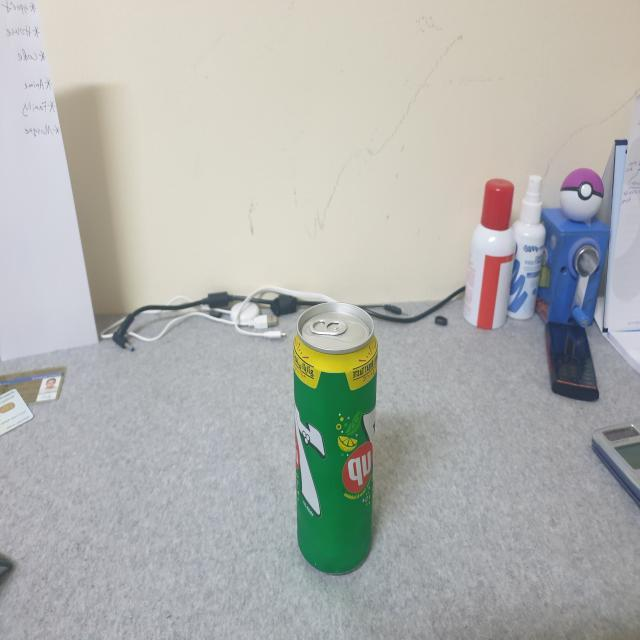can: (282, 284, 384, 586)
